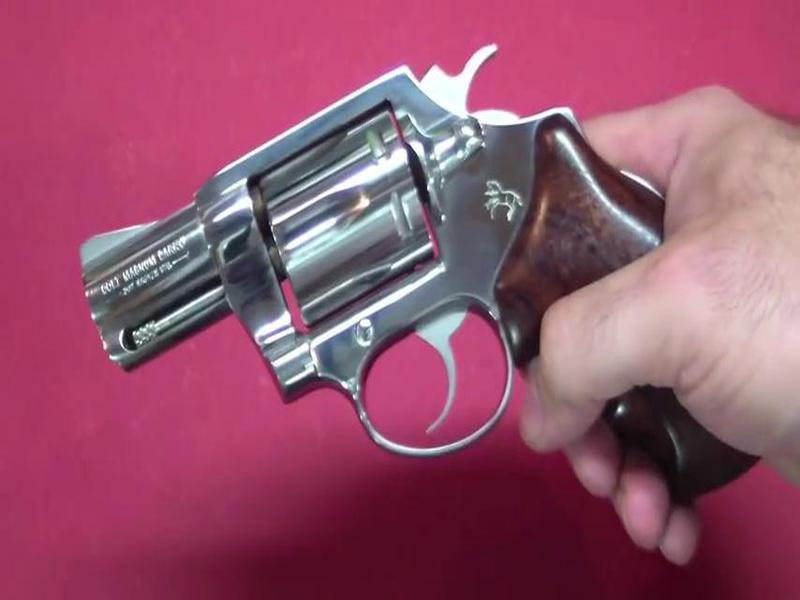Revolver: (74, 9, 800, 528)
